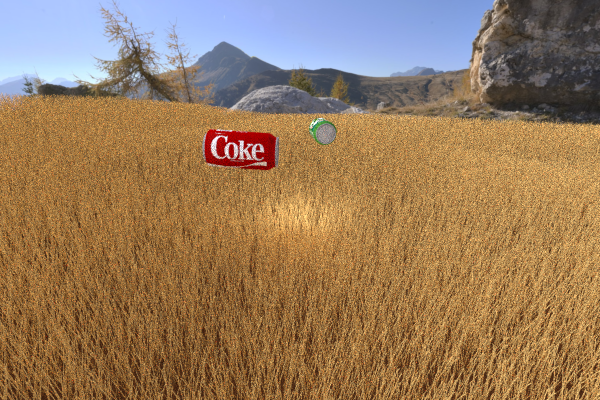Plastic Bottle: (422, 118, 552, 208), (202, 129, 279, 170), (309, 117, 336, 145)
